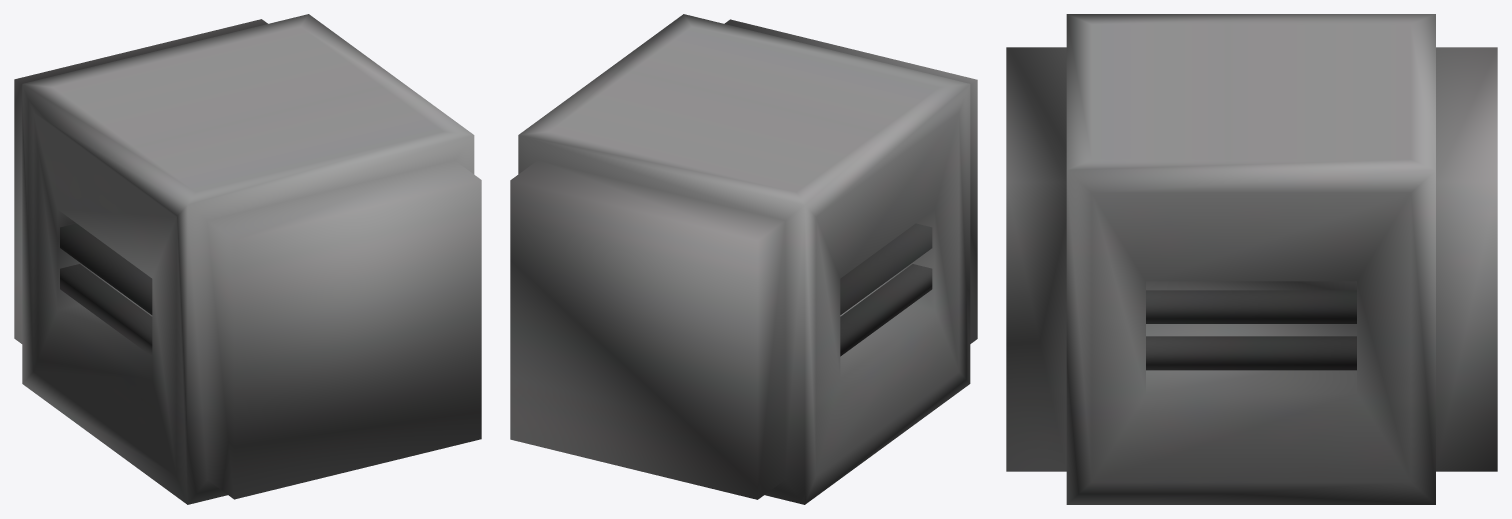
Rendered from TubulationDubleConnectionS2Eng.fbx.
3 renders of one model, left to right at view 1: azimuth 30°, elevation 25°; view 2: azimuth 150°, elevation 25°; view 3: azimuth 270°, elevation 25°, orthographic. The views are drawn at different scales.
Visible parts, largest first — view 1: TubulationDubleConnectionS2Eng; view 2: TubulationDubleConnectionS2Eng; view 3: TubulationDubleConnectionS2Eng.
Boxes of the visible parts, x1,y1,x2,y2 form: TubulationDubleConnectionS2Eng: (14, 14, 481, 504); TubulationDubleConnectionS2Eng: (510, 14, 977, 504); TubulationDubleConnectionS2Eng: (1006, 14, 1497, 504).
Size of the model in its own units: 60 by 60 by 79.79.
1 material, 1 textured.
